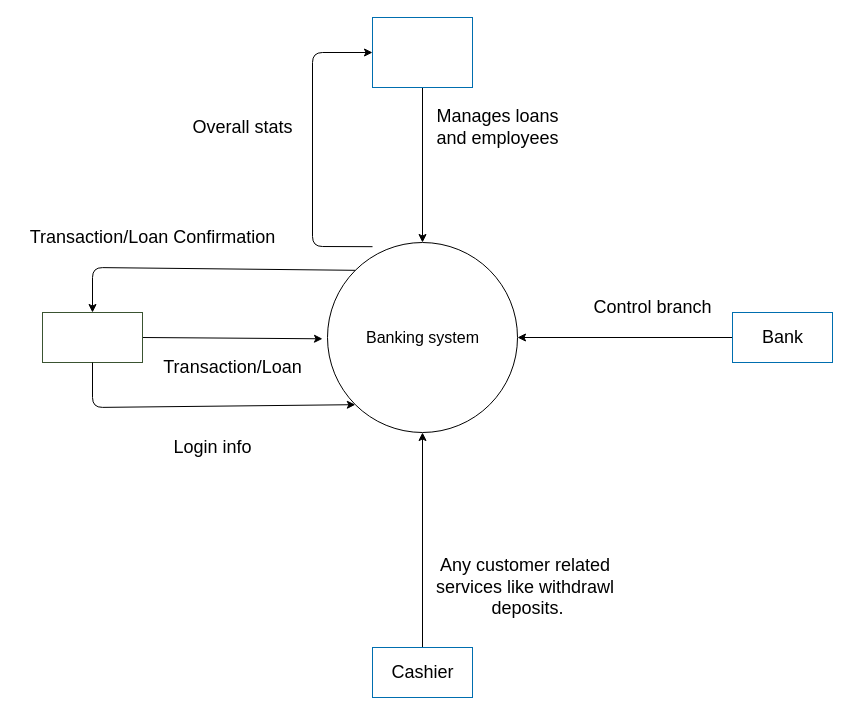
Image size: 850x715. Some labels were removed from this diagram. The shapes that lost their labels are listed below. From the top down, each one's box as (x1, y1, x2, y2) in pixels, then its label:
(372, 16, 472, 88): Manager
(42, 312, 142, 362): Customer
